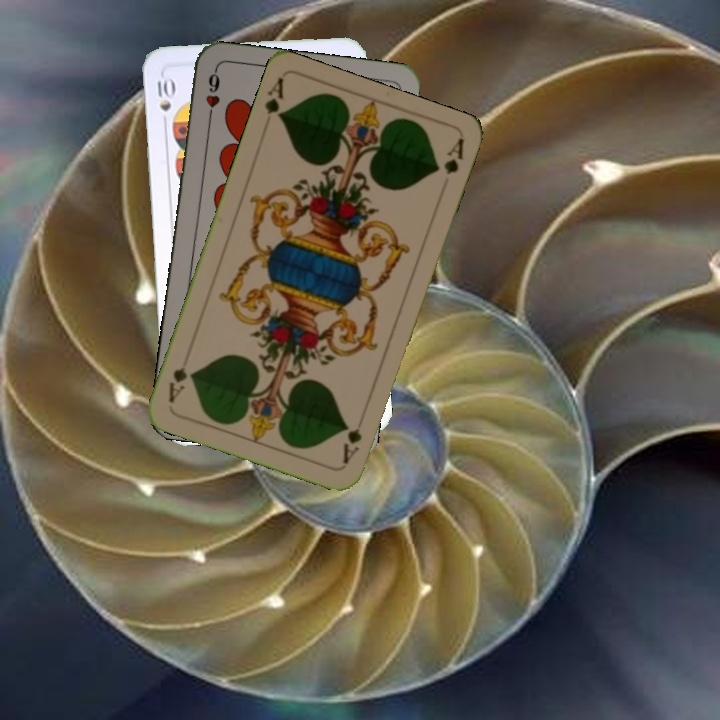GA: (338, 410, 367, 467), (260, 74, 287, 122)
H9: (201, 66, 223, 125)
S10: (153, 71, 175, 130)
